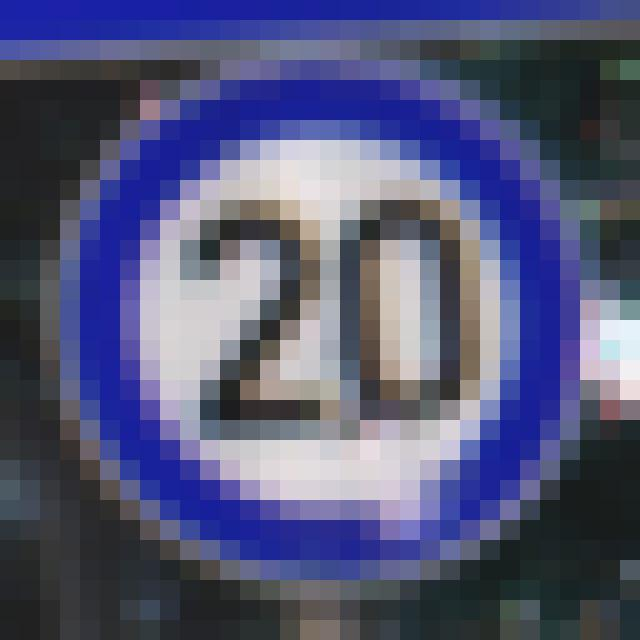SPEED LIMIT 20: (61, 103, 597, 576)
